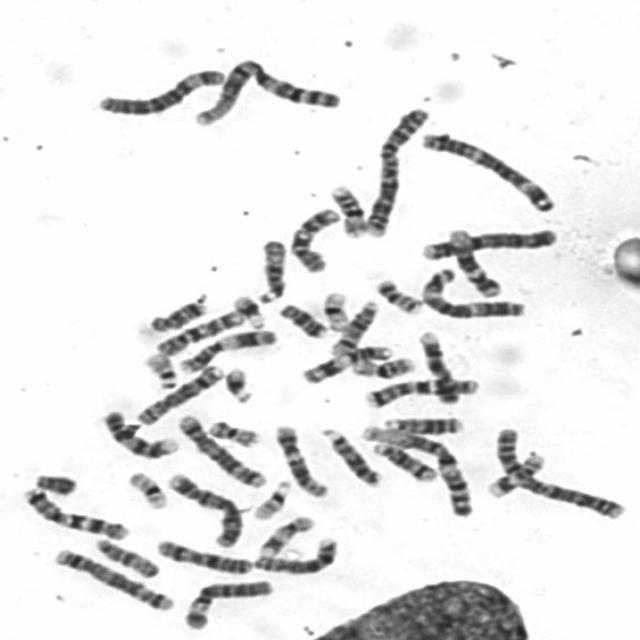A1: (358, 423, 475, 520), (188, 58, 344, 128)
A2: (491, 426, 629, 520), (360, 106, 433, 238)
A3: (420, 130, 560, 214), (423, 266, 528, 320)
B4: (165, 471, 247, 548), (421, 228, 559, 263)
B5: (51, 549, 179, 613), (175, 415, 266, 487)
C10: (152, 309, 248, 357), (289, 208, 344, 275)
C11: (176, 329, 282, 375), (299, 343, 394, 387)
C12: (270, 425, 332, 499), (444, 227, 504, 300)
C6: (95, 68, 228, 118), (184, 578, 275, 630)
C7: (22, 485, 133, 542), (364, 378, 482, 409)
C8: (134, 361, 230, 428), (252, 536, 339, 576)
C9: (101, 408, 180, 462), (418, 329, 463, 406)
D13: (318, 427, 386, 489), (384, 415, 466, 437)
D14: (327, 298, 382, 361), (372, 442, 440, 483)
D15: (91, 536, 162, 581), (254, 240, 288, 306)
E16: (328, 181, 370, 239), (350, 356, 416, 380)
E17: (484, 451, 547, 499), (258, 516, 314, 556)
E18: (147, 300, 208, 334), (278, 303, 328, 340)
F19: (127, 469, 172, 510), (322, 290, 352, 332)
F20: (372, 278, 426, 317), (208, 420, 261, 448)
G21: (231, 294, 268, 331), (224, 368, 256, 406)
G22: (250, 478, 295, 522), (141, 350, 182, 391)
X: (157, 538, 253, 576)
Y: (33, 473, 80, 496)
